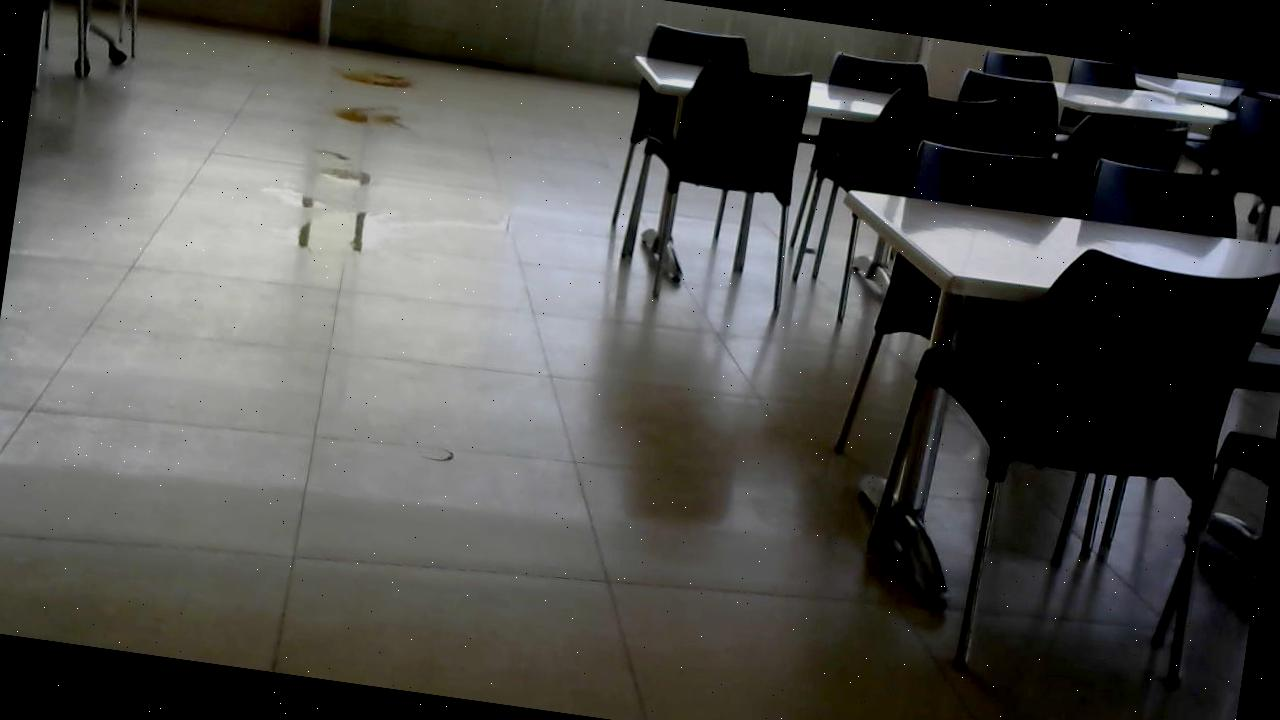dirty_floor: (245, 151, 518, 282), (322, 93, 417, 137), (329, 62, 422, 96)
